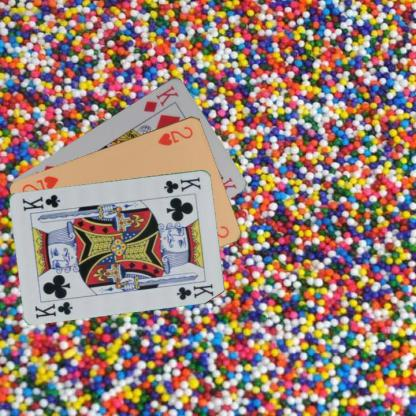2h: (156, 123, 194, 147)
Kc: (31, 298, 75, 320), (161, 174, 202, 195)
Kd: (141, 82, 180, 113)
